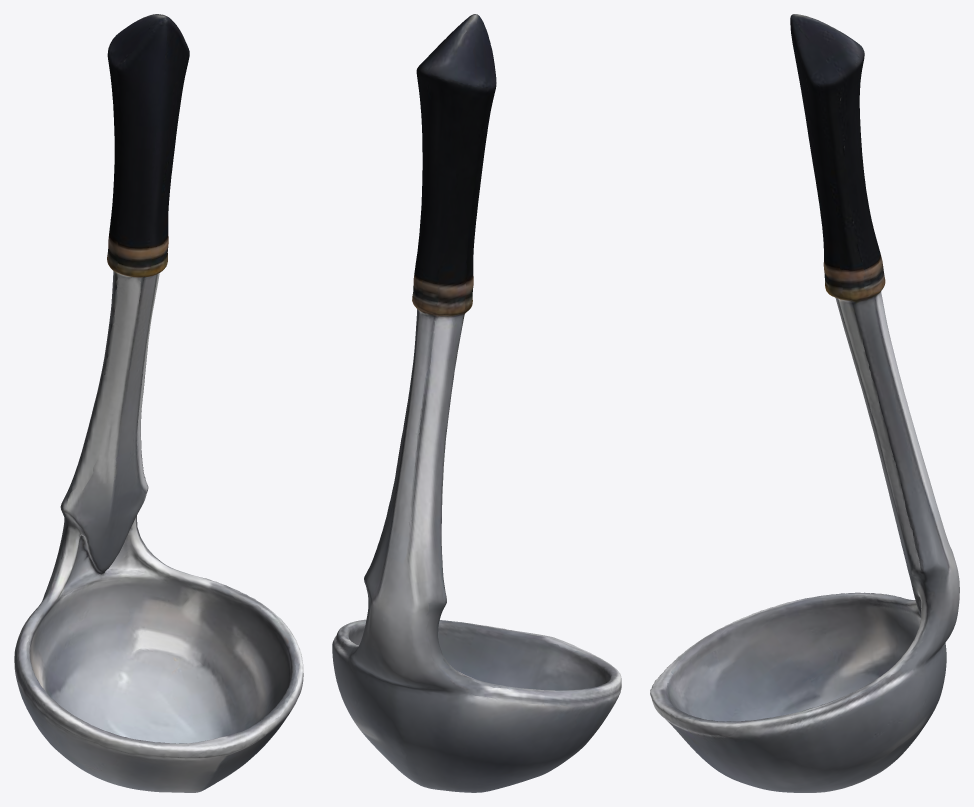
The model's file is agatha_ladle.glb.
3 views of the same model, side by side, from view 1: azimuth 30°, elevation 25°; view 2: azimuth 150°, elevation 25°; view 3: azimuth 270°, elevation 25° (orthographic).
Bounding box in the file's own units: 0.3319 × 0.9518 × 0.3463.
1 material, 1 textured.
